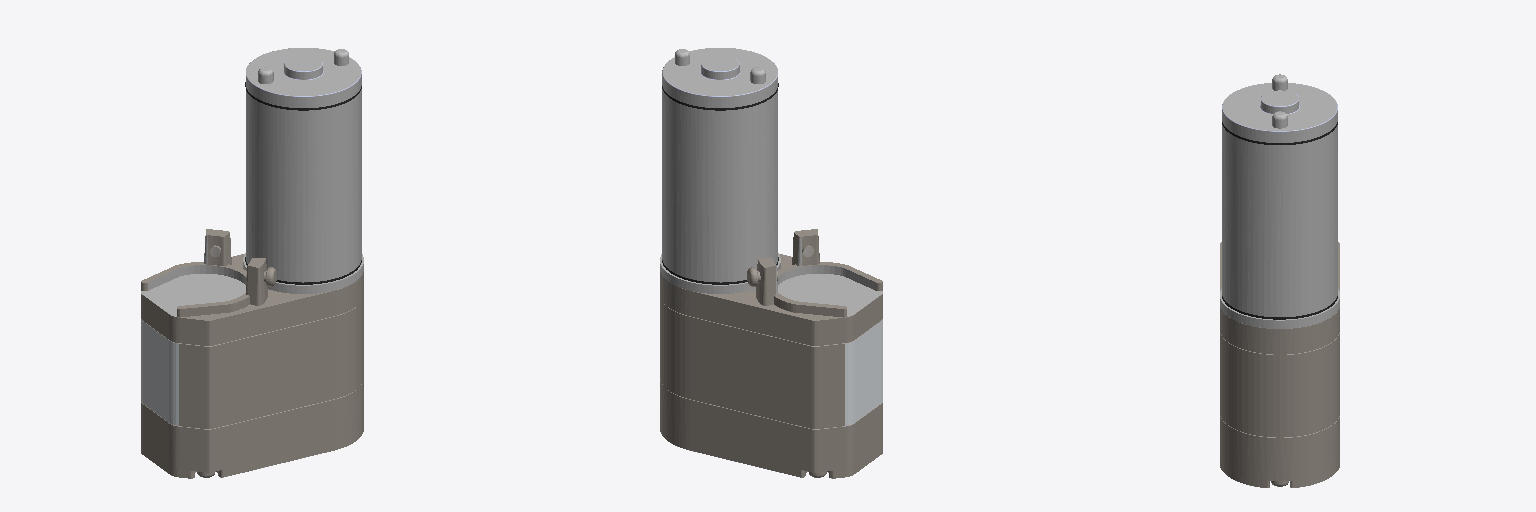
Rendered from lower_actuator_medium.obj.
3 views of the same model, side by side, from view 1: azimuth 30°, elevation 25°; view 2: azimuth 150°, elevation 25°; view 3: azimuth 270°, elevation 25° (orthographic).
Visible parts, largest first — view 1: Mtl5, Mtl1, Mtl4; view 2: Mtl5, Mtl1, Mtl4; view 3: Mtl1, Mtl5, Mtl3.
Part boxes in pixels (x1,y1,x2,y2): Mtl5: (141,229,363,478); Mtl1: (141,48,363,316); Mtl4: (141,320,352,478); Mtl5: (660,229,882,478); Mtl1: (660,48,882,316); Mtl4: (671,320,882,478); Mtl1: (1220,74,1339,328); Mtl5: (1220,242,1339,487); Mtl3: (1222,122,1337,319).
Size of the model in its own units: 0.0757 by 0.1333 by 0.0396.